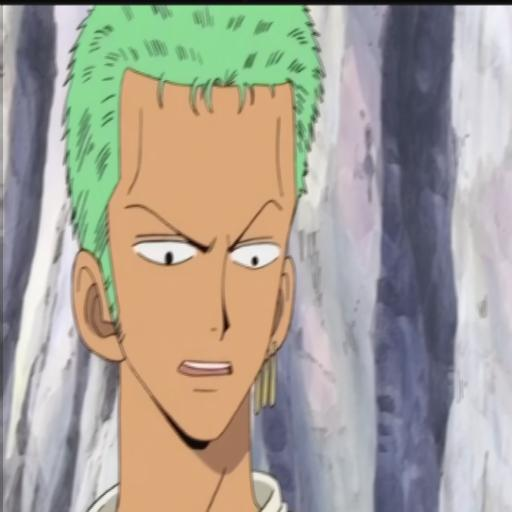Zoro: (52, 0, 318, 512)
